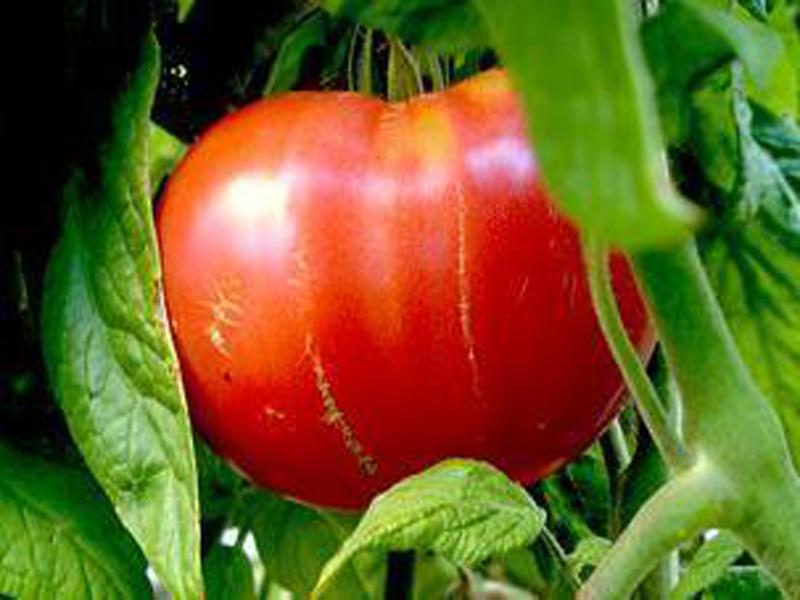Tomato: (150, 65, 655, 509)
